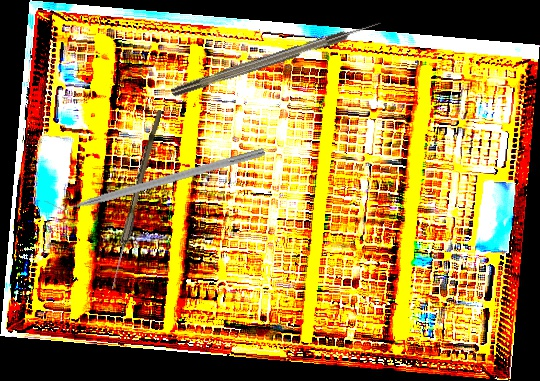Chopper: (43, 136, 266, 218)
Hook Surgical: (170, 18, 383, 98)
Surgical Spoon: (108, 108, 163, 291)
